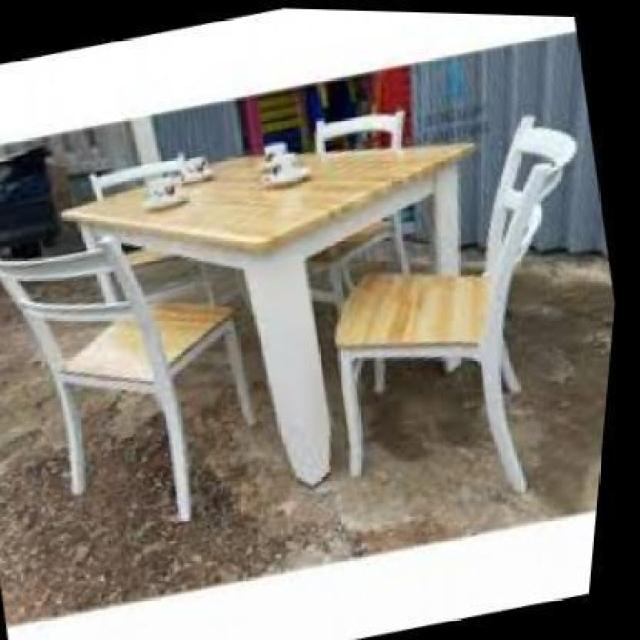tables: (58, 140, 477, 486)
